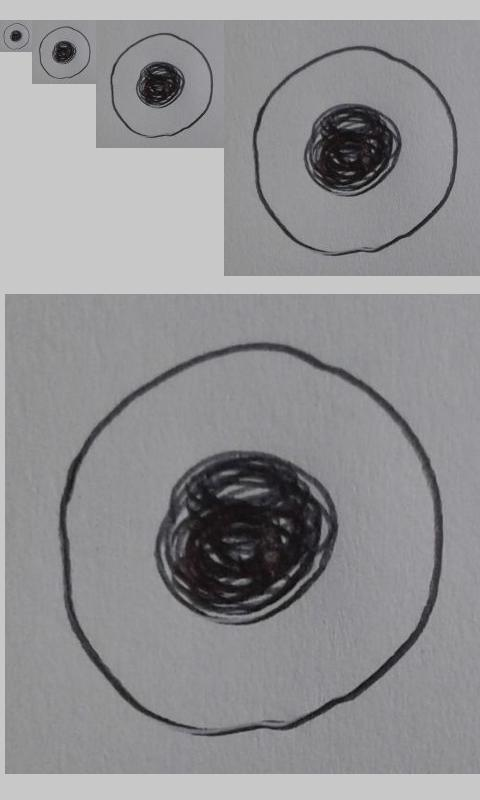radio_button: (55, 339, 447, 741), (251, 44, 459, 257), (109, 32, 214, 139), (38, 25, 91, 80), (1, 22, 31, 51)
